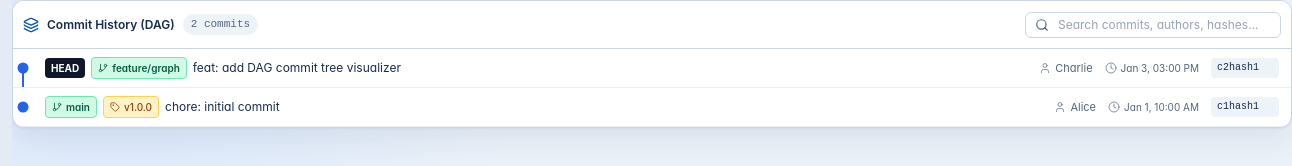
Test: Git Manager Frontend Components › 2. GitCommitGraph Component › filters commits by search query
In the field named "Filter commits": [1153, 25] box [1025, 12, 1281, 38], type "initial"
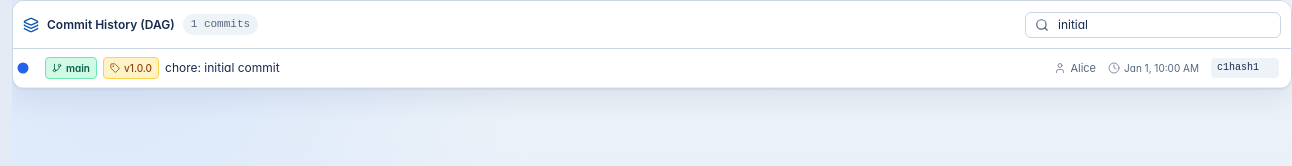
expect the text "chore: initial commit" is shown: met, box [165, 60, 280, 76]
expect the button "feat: add DAG commit tree visualizer" is gone: met
